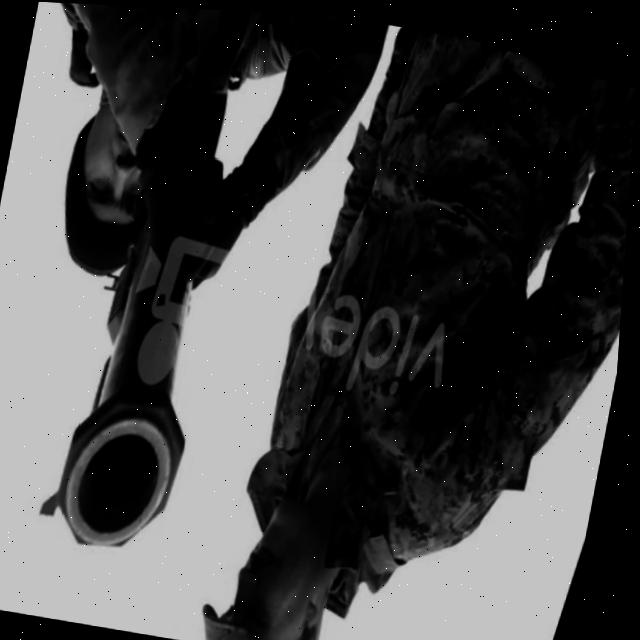rocket: (33, 198, 256, 574)
